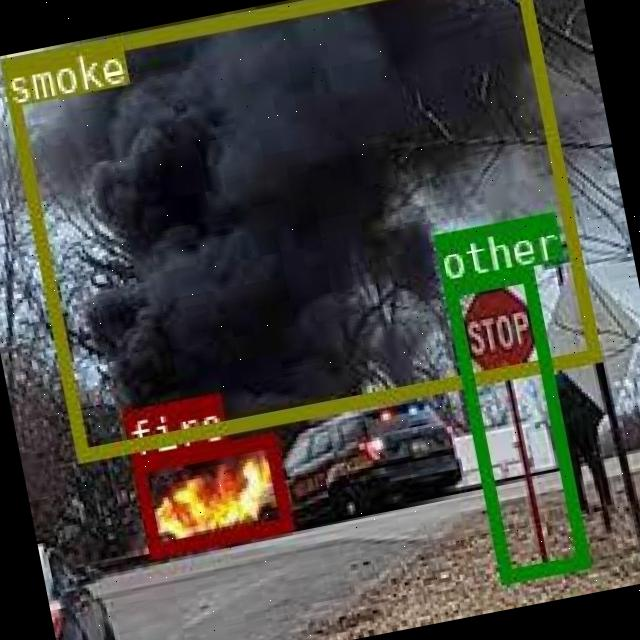fire: (128, 432, 291, 556)
smoke: (0, 0, 599, 460)
